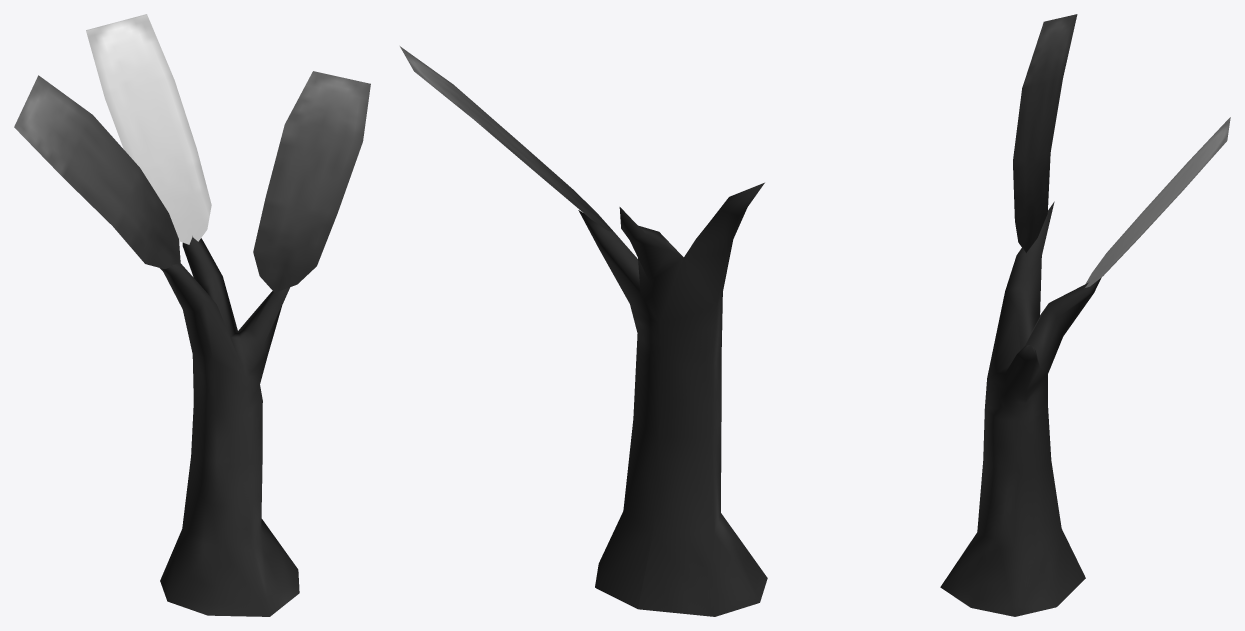
Rendered from PltTreeCedar0.glb.
The picture shows the model from 3 angles, left to right: view 1: azimuth 30°, elevation 25°; view 2: azimuth 150°, elevation 25°; view 3: azimuth 270°, elevation 25°; orthographic projection. The views are drawn at different scales.
Visible parts, largest first — view 1: Leaf_L01__mPltTreeCedarLeaf, fg_treeA_0__mTreeCedarTrunk; view 2: fg_treeA_0__mTreeCedarTrunk, Leaf_L01__mPltTreeCedarLeaf; view 3: fg_treeA_0__mTreeCedarTrunk, Leaf_L01__mPltTreeCedarLeaf.
Part boxes in pixels (x1,y1,x2,y2): Leaf_L01__mPltTreeCedarLeaf: (14,14,370,292); fg_treeA_0__mTreeCedarTrunk: (160,236,299,616); fg_treeA_0__mTreeCedarTrunk: (578,182,767,616); Leaf_L01__mPltTreeCedarLeaf: (400,46,613,232); fg_treeA_0__mTreeCedarTrunk: (940,201,1101,616); Leaf_L01__mPltTreeCedarLeaf: (1013,14,1230,287).
Bounding box in the file's own units: 4.75 × 6.2 × 3.27.
2 materials, 2 textured.
